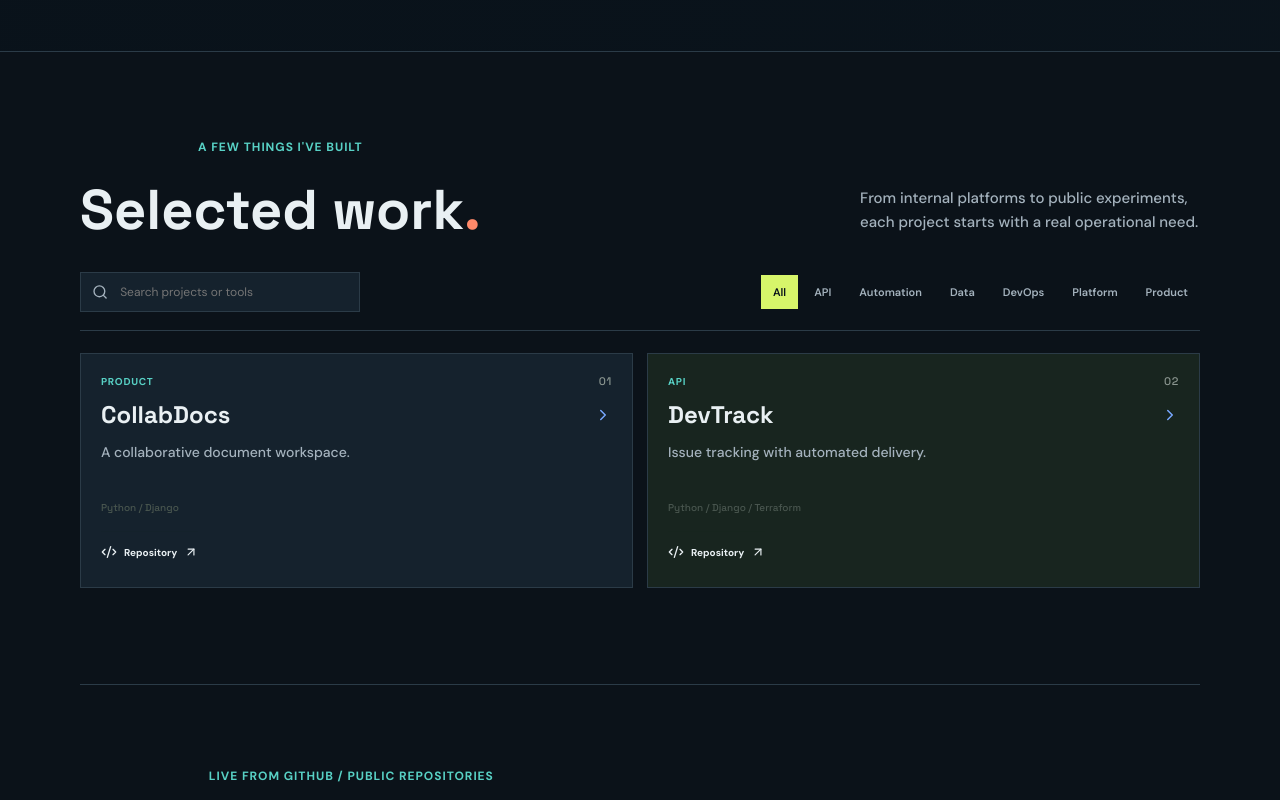
Scenario: portfolio website › offers the README backup when project detail loading fails
(page scrolled)
Click the button with aria-label "View details for DevTrack": [924, 444] box x1=668 y1=374 x2=1179 y2=514
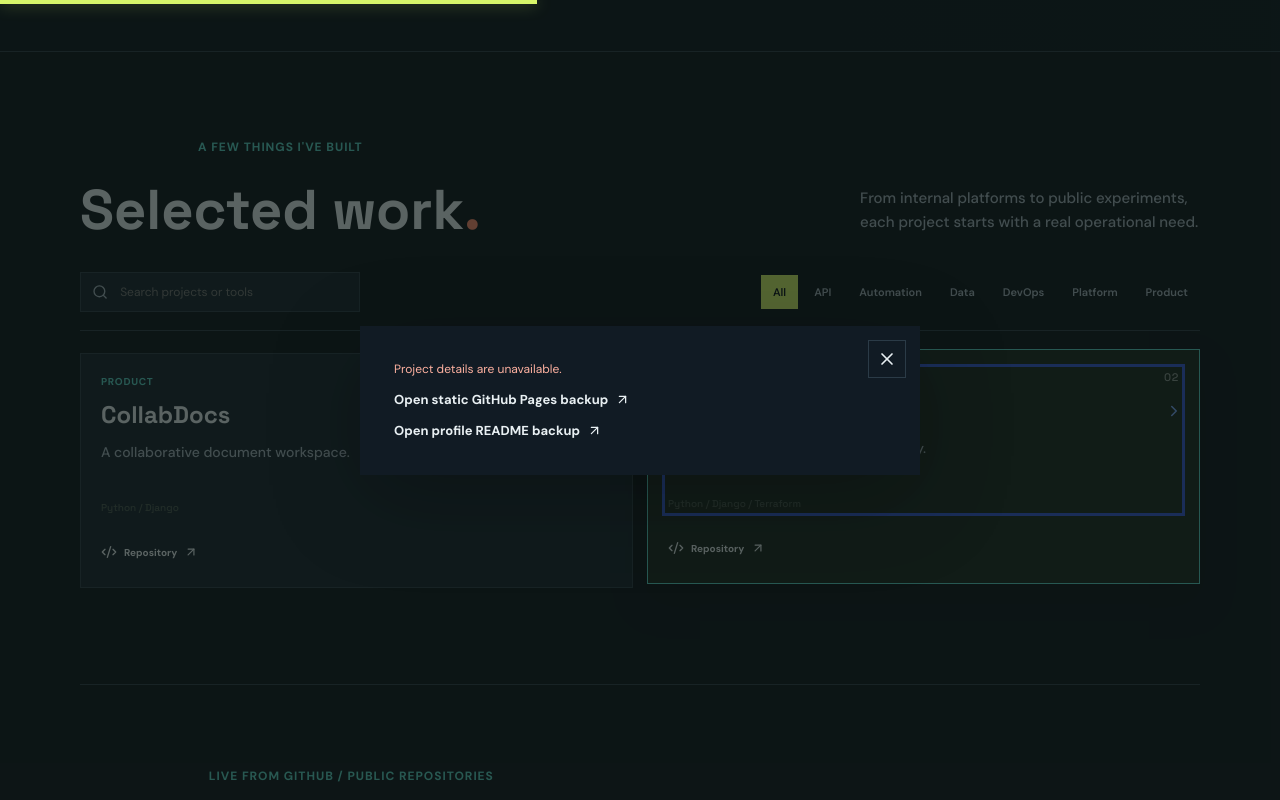
Now the message reads "Project details are unavailable.", box x1=394 y1=360 x2=562 y2=376
